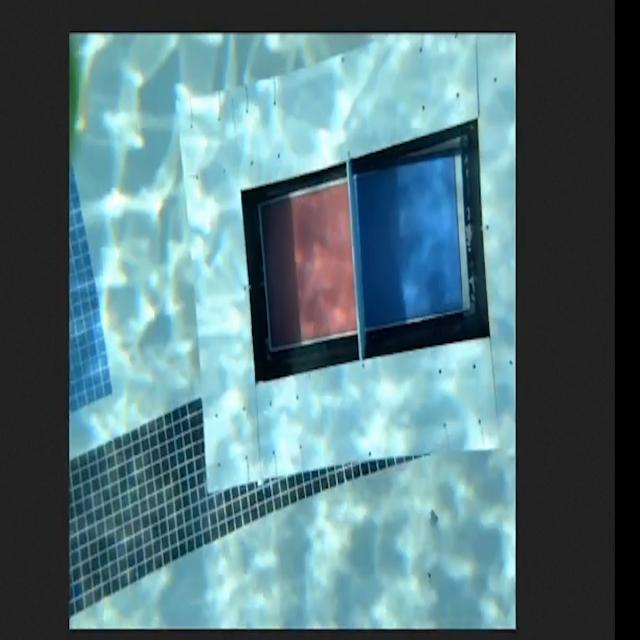Bin: (164, 31, 535, 508)
